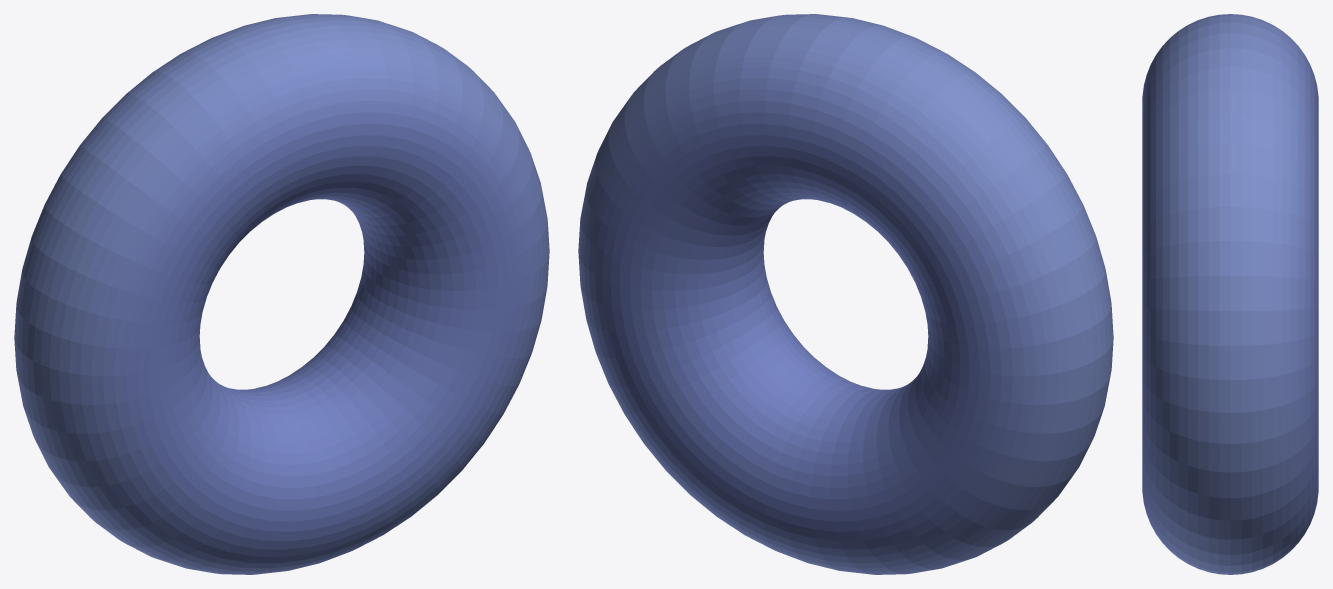
3 renders of one model, left to right at view 1: azimuth 30°, elevation 25°; view 2: azimuth 150°, elevation 25°; view 3: azimuth 270°, elevation 25°, orthographic. The views are drawn at different scales.
Visible parts, largest first — view 1: world; view 2: world; view 3: world.
Part boxes in pixels (x1,y1,x2,y2): world: [14, 14, 549, 574]; world: [578, 14, 1113, 574]; world: [1142, 14, 1318, 574].
Size of the model in its own units: 16.53 by 16.5 by 5.19.
